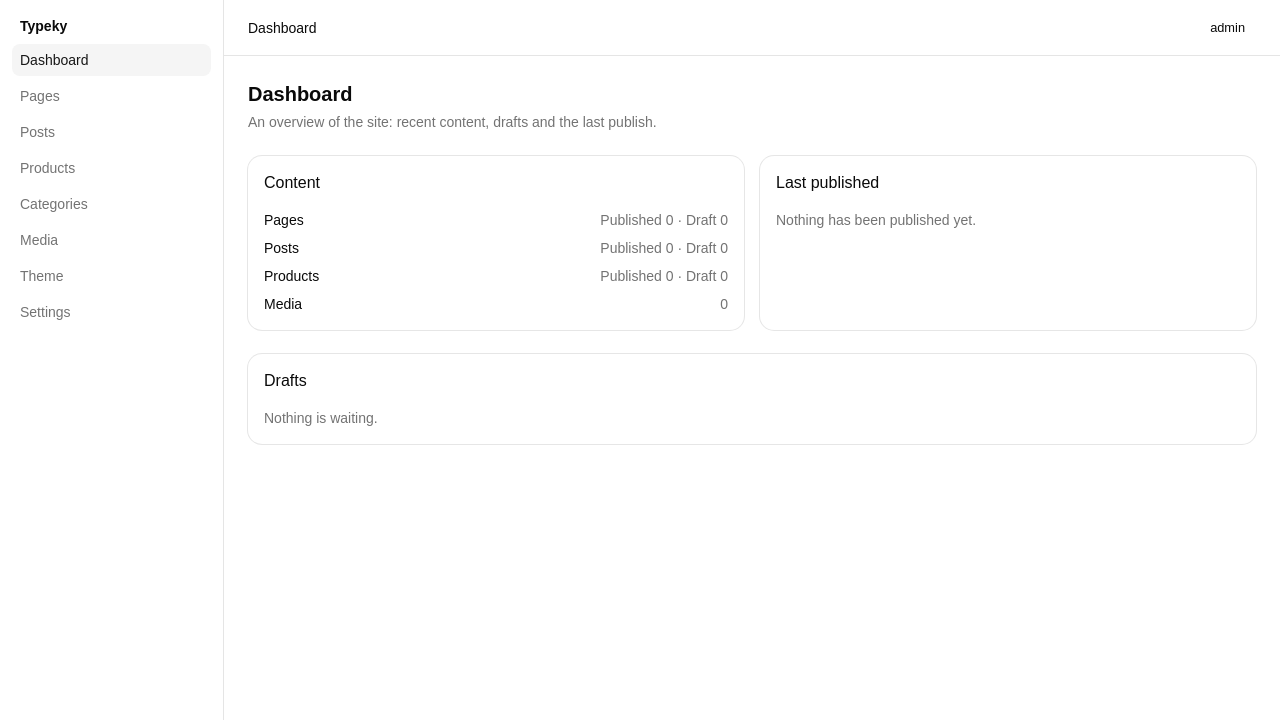
Test case: signing out › returns to the sign-in screen
Click the button "admin". click: x=1228, y=28
box: [1199,14,1256,42]
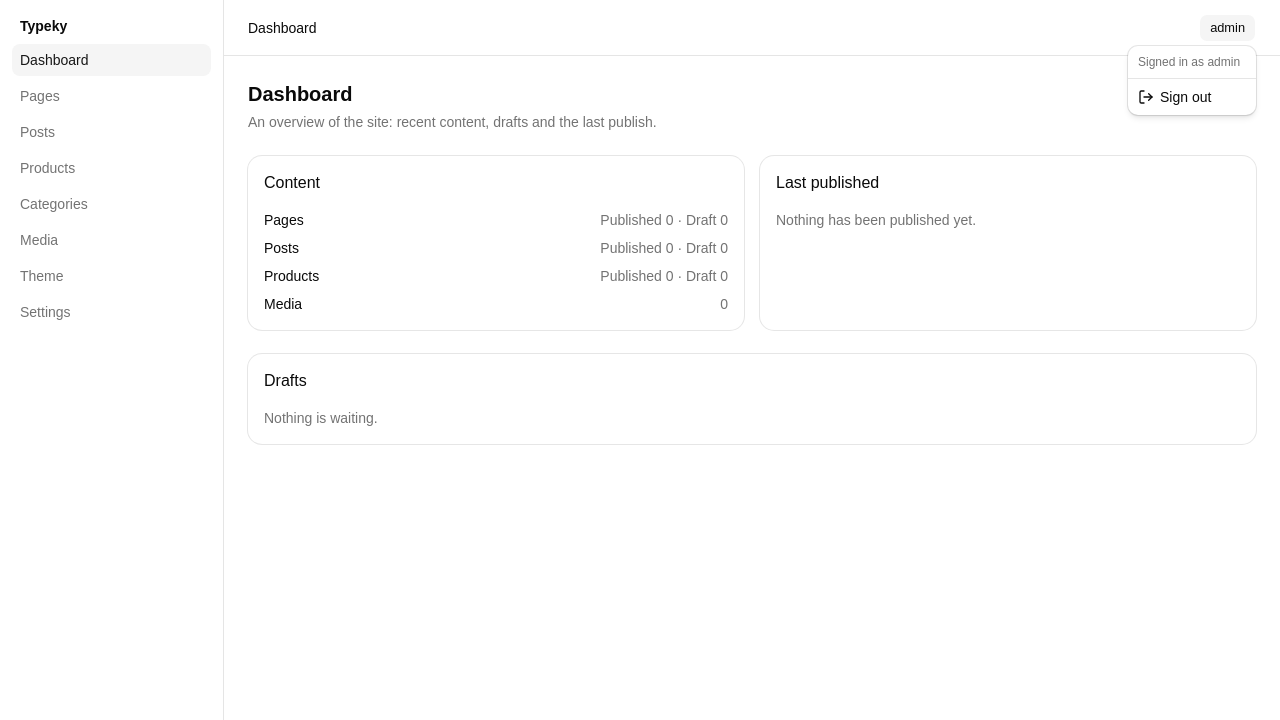
Click the menu item "Sign out". click: x=1175, y=97
box: [1138,89,1211,105]
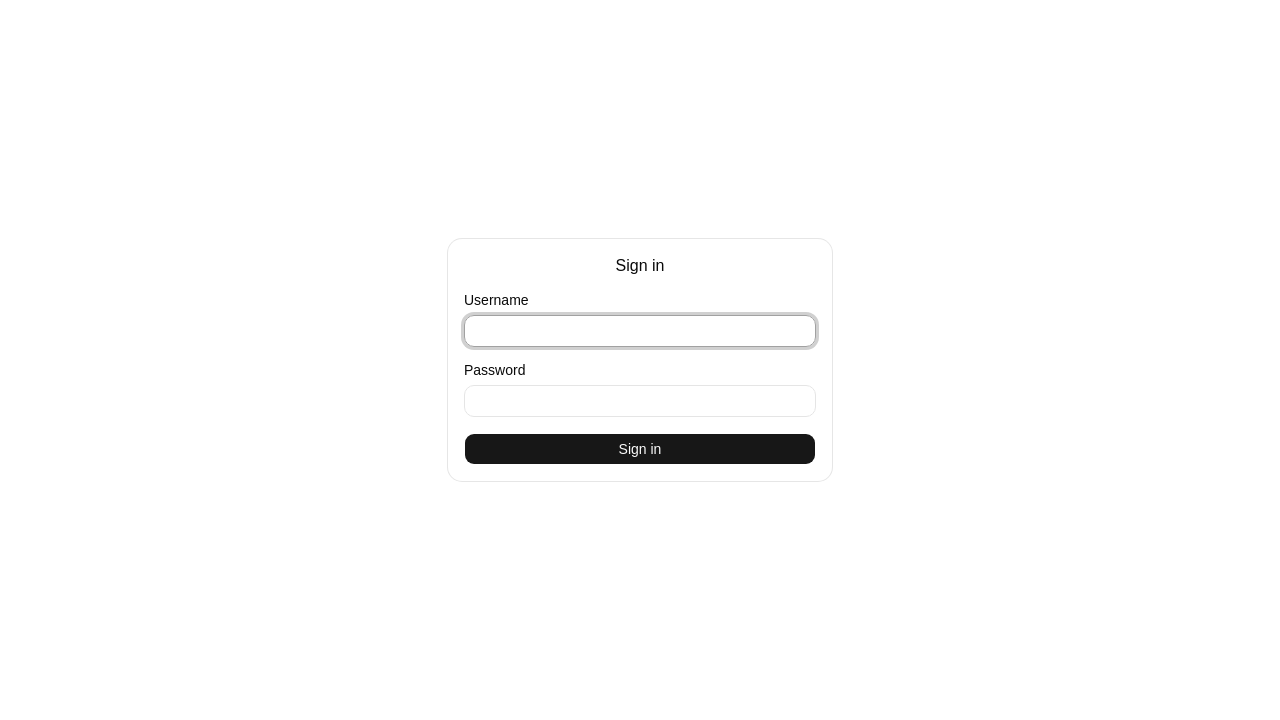
Expected: the password field labelled "Password" is shown, [464,385,816,417]
